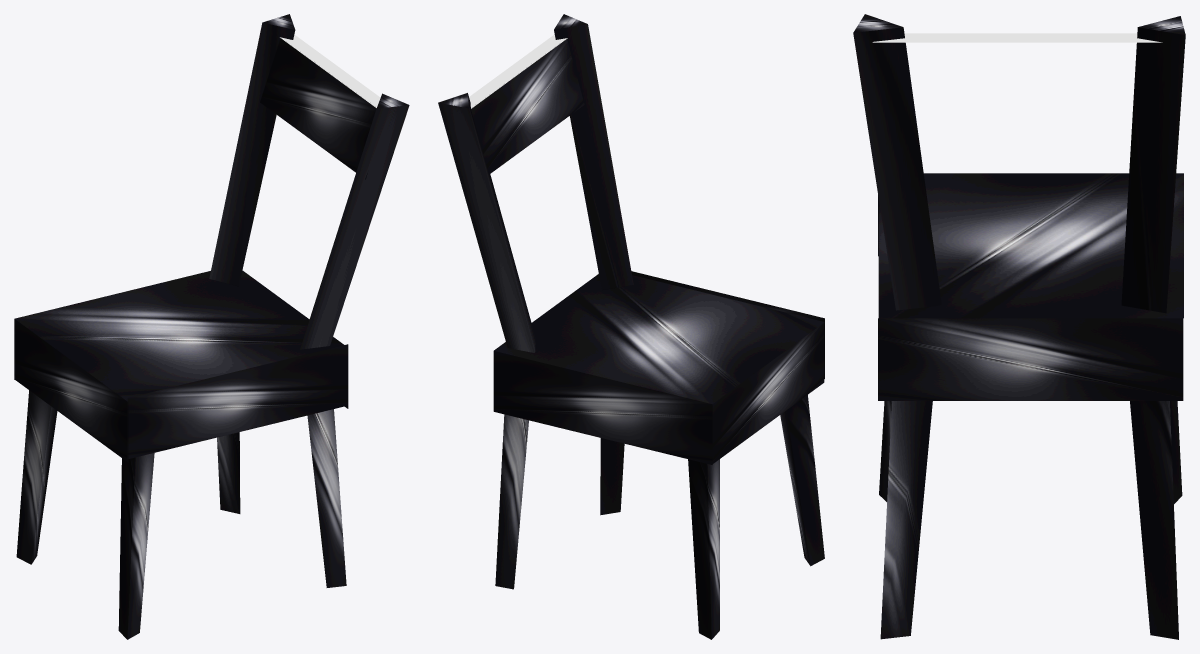
The model's file is Stuhl_Schlicht_2092.glb.
3 renders of one model, left to right at view 1: azimuth 30°, elevation 25°; view 2: azimuth 150°, elevation 25°; view 3: azimuth 270°, elevation 25°, orthographic. The views are drawn at different scales.
Parts seen in each view (by area): view 1: pPlaneShape199, pPlaneShape197, pCylinderShape262, pCylinderShape265, pPlaneShape202, pPlaneShape198, pCylinderShape263, pCylinderShape264, pPlaneShape203; view 2: pPlaneShape199, pPlaneShape201, pCylinderShape265, pCylinderShape262, pPlaneShape202, pPlaneShape198, pCylinderShape264, pCylinderShape263, pPlaneShape203, pPlaneShape197; view 3: pPlaneShape199, pPlaneShape200, pCylinderShape262, pCylinderShape265, pPlaneShape203, pCylinderShape264, pCylinderShape263.
Boxes of the visible parts, left/top/right/bottom form: pPlaneShape199: left=15, top=270, right=343, bottom=401; pPlaneShape197: left=127, top=344, right=348, bottom=458; pCylinderShape262: left=300, top=93, right=409, bottom=587; pCylinderShape265: left=209, top=14, right=295, bottom=513; pPlaneShape202: left=260, top=38, right=376, bottom=179; pPlaneShape198: left=15, top=319, right=128, bottom=462; pCylinderShape263: left=118, top=453, right=154, bottom=639; pCylinderShape264: left=16, top=390, right=57, bottom=564; pPlaneShape203: left=280, top=34, right=380, bottom=107; pPlaneShape199: left=494, top=274, right=824, bottom=404; pPlaneShape201: left=493, top=351, right=712, bottom=464; pCylinderShape265: left=438, top=93, right=535, bottom=589; pCylinderShape262: left=554, top=14, right=633, bottom=515; pPlaneShape202: left=471, top=39, right=584, bottom=174; pPlaneShape198: left=712, top=323, right=824, bottom=463; pCylinderShape264: left=688, top=459, right=719, bottom=639; pCylinderShape263: left=780, top=395, right=824, bottom=566; pPlaneShape203: left=469, top=34, right=567, bottom=108; pPlaneShape197: left=631, top=271, right=824, bottom=378; pPlaneShape199: left=878, top=173, right=1183, bottom=318; pPlaneShape200: left=878, top=318, right=1183, bottom=400; pCylinderShape262: left=853, top=14, right=941, bottom=639; pCylinderShape265: left=1121, top=16, right=1185, bottom=639; pPlaneShape203: left=872, top=33, right=1162, bottom=42; pCylinderShape264: left=1170, top=401, right=1182, bottom=503; pCylinderShape263: left=879, top=401, right=891, bottom=501.
Bounding box in the file's own units: 0.0765 × 0.1259 × 0.0592.
Materials: 11 (10 with a texture image).
